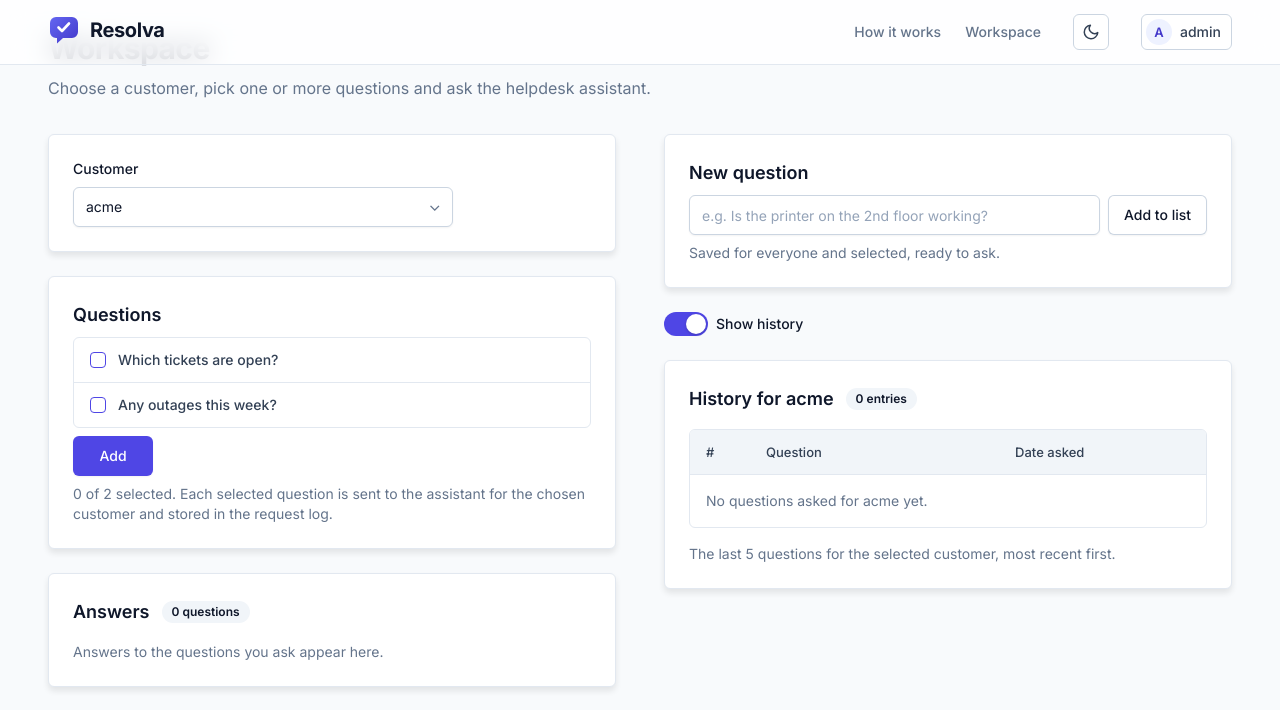
App › shows the error of a failed question and still answers the others
The width and height of the screenshot is (1280, 710).
(page scrolled)
Click the checkbox labelled "Which tickets are open?" at (98, 360), box [90,352,106,368]
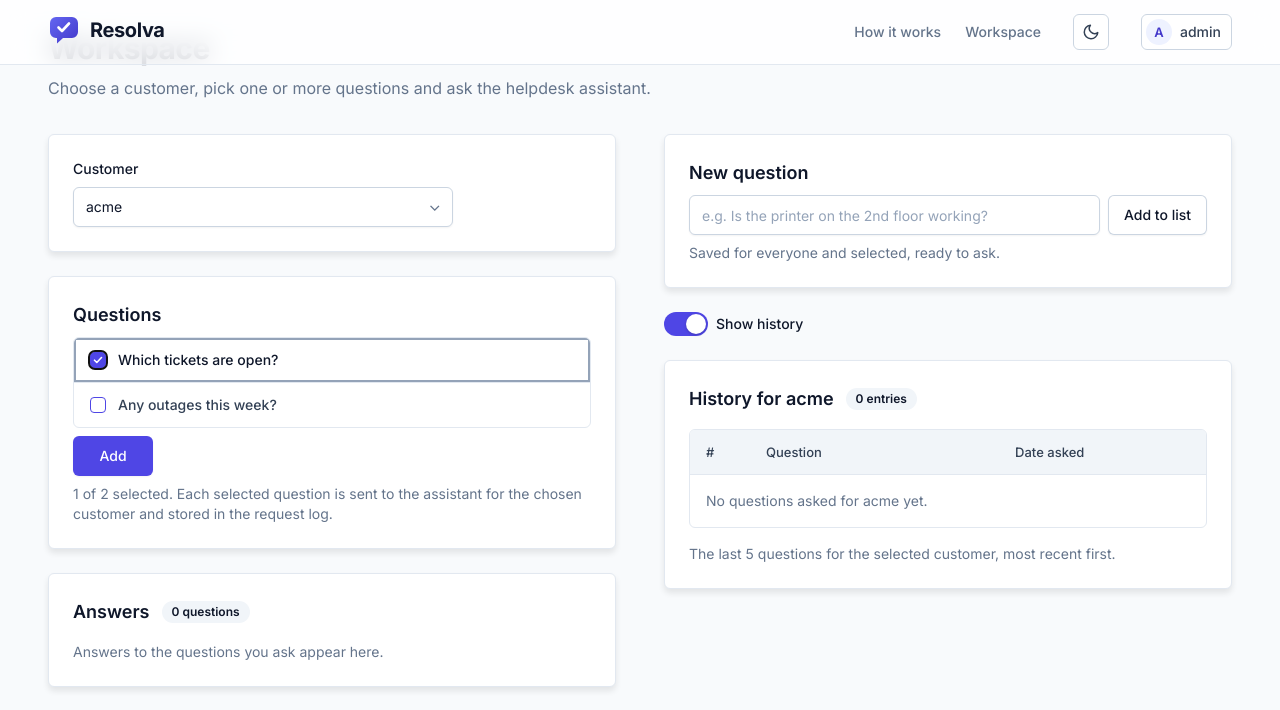
Click the checkbox labelled "Any outages this week?" at (98, 405), box [90,397,106,413]
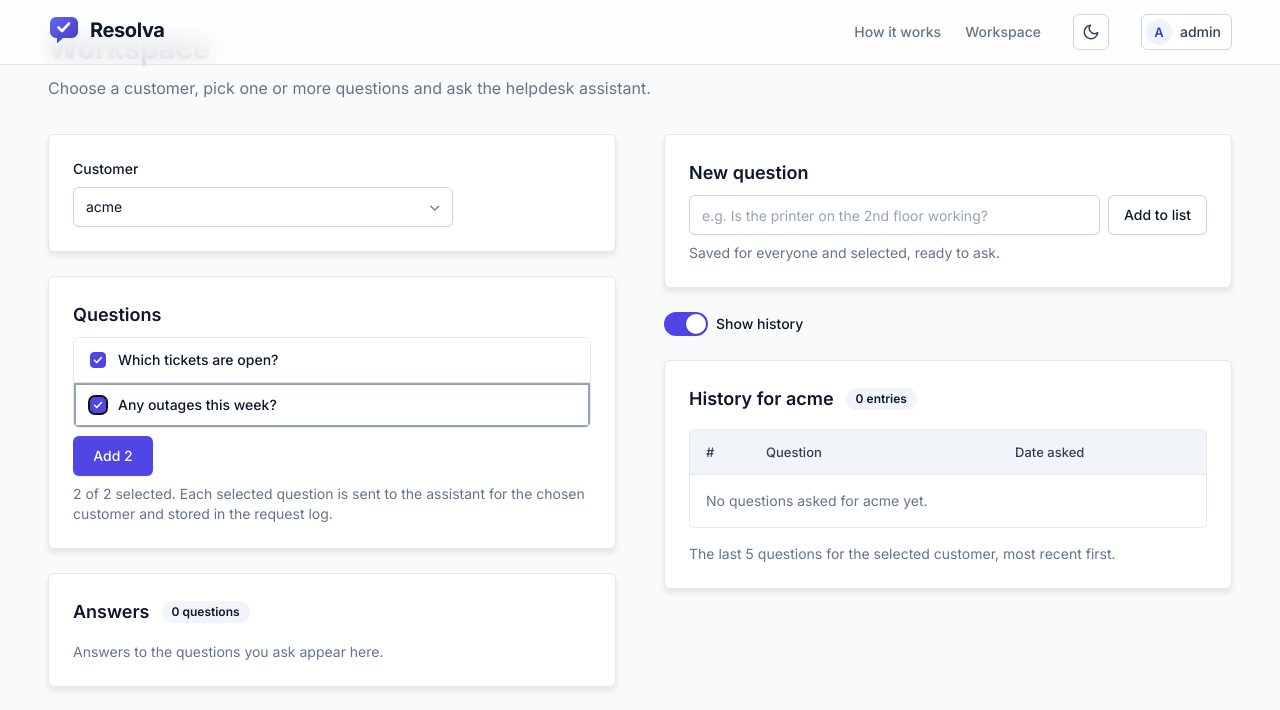
Click the button "Add 2" at (113, 456), box [73,436,153,476]
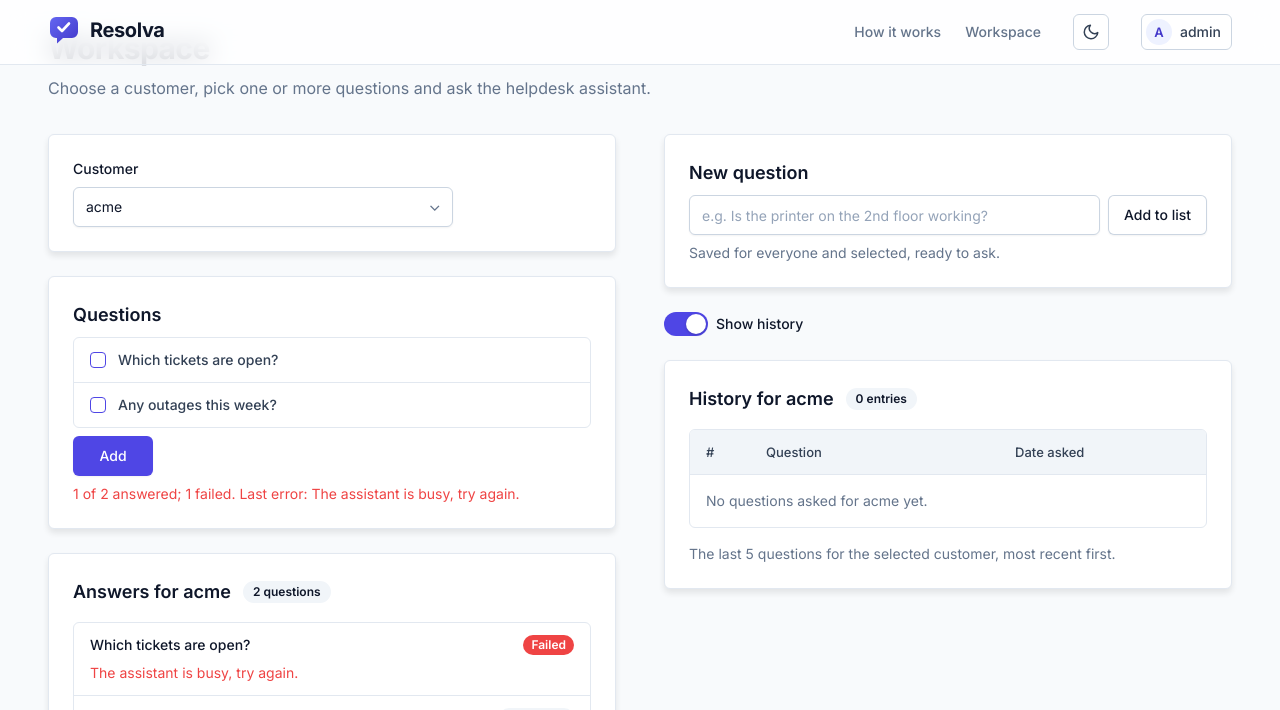
Check: the list item that starts with "Which tickets are open?" shows "Failed", box [531,637,566,652]
Check: the message "The assistant is busy, try again." is shown, box [90,664,298,681]
Check: the message "1 of 2 answered; 1 failed. Last error: The assistant is busy, try again." is shown, box [73,484,591,504]
